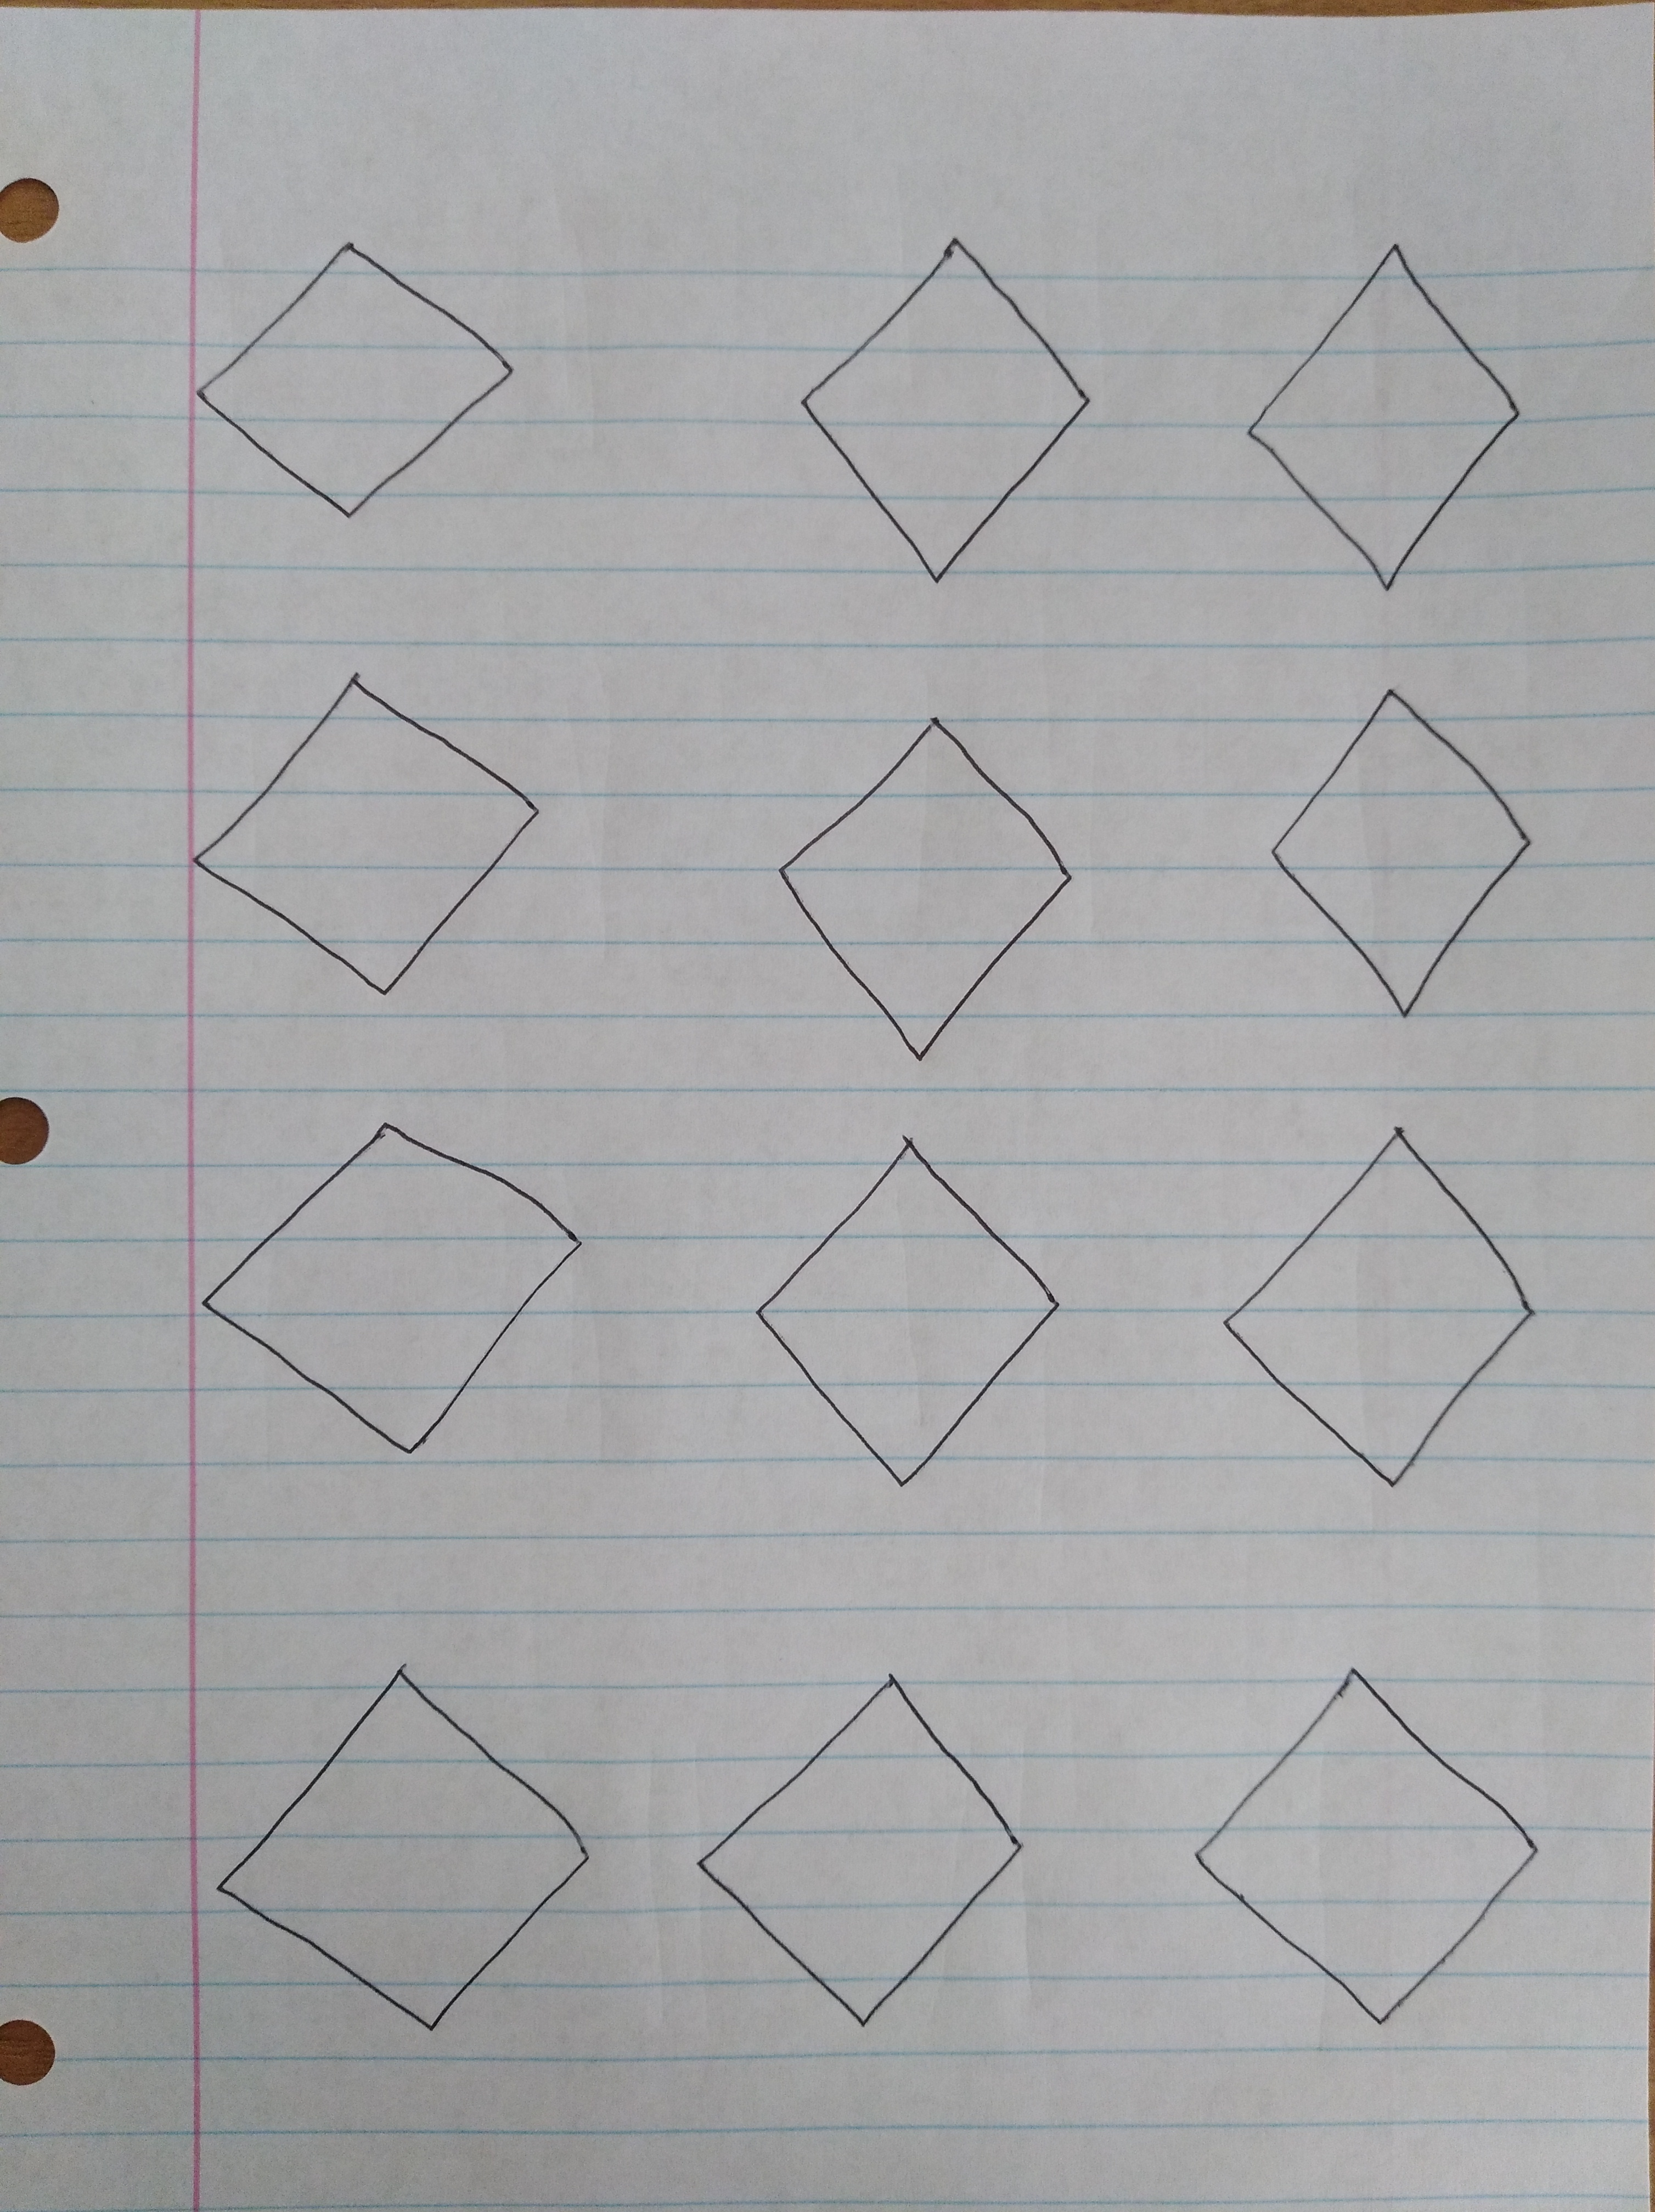decision: (177, 1632, 622, 2050), (1173, 1642, 1565, 2068), (165, 643, 584, 1017), (179, 1103, 602, 1472), (680, 1642, 1036, 2052), (749, 692, 1114, 1084), (774, 214, 1130, 613), (1205, 1103, 1549, 1517), (728, 1114, 1087, 1507), (1231, 209, 1540, 631), (172, 209, 544, 544), (1234, 662, 1554, 1048)
